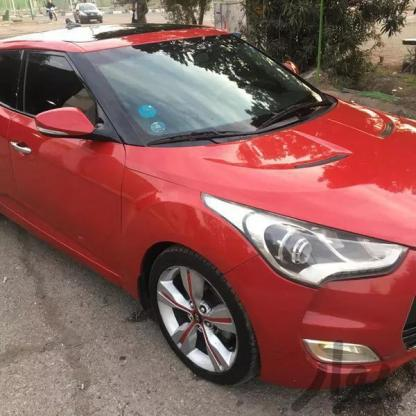Car: (0, 23, 416, 369)
